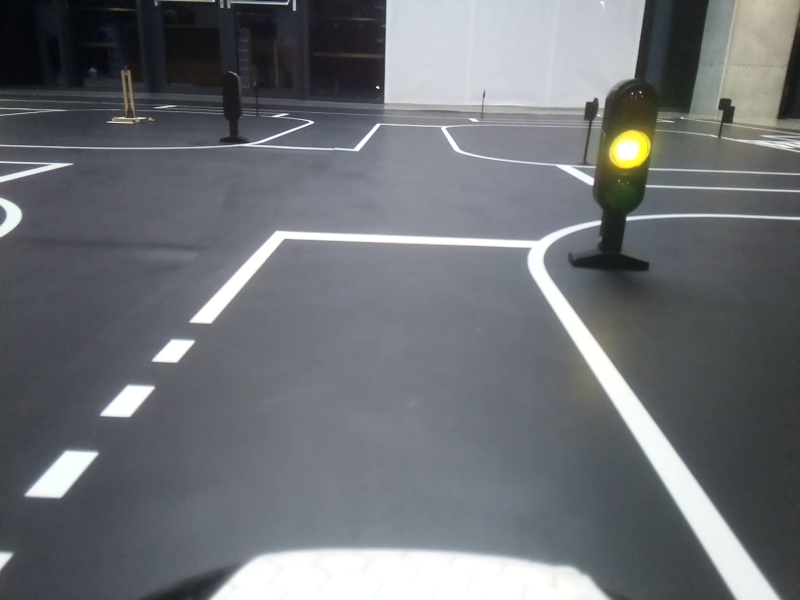traffic_yellow: (598, 79, 654, 211)
